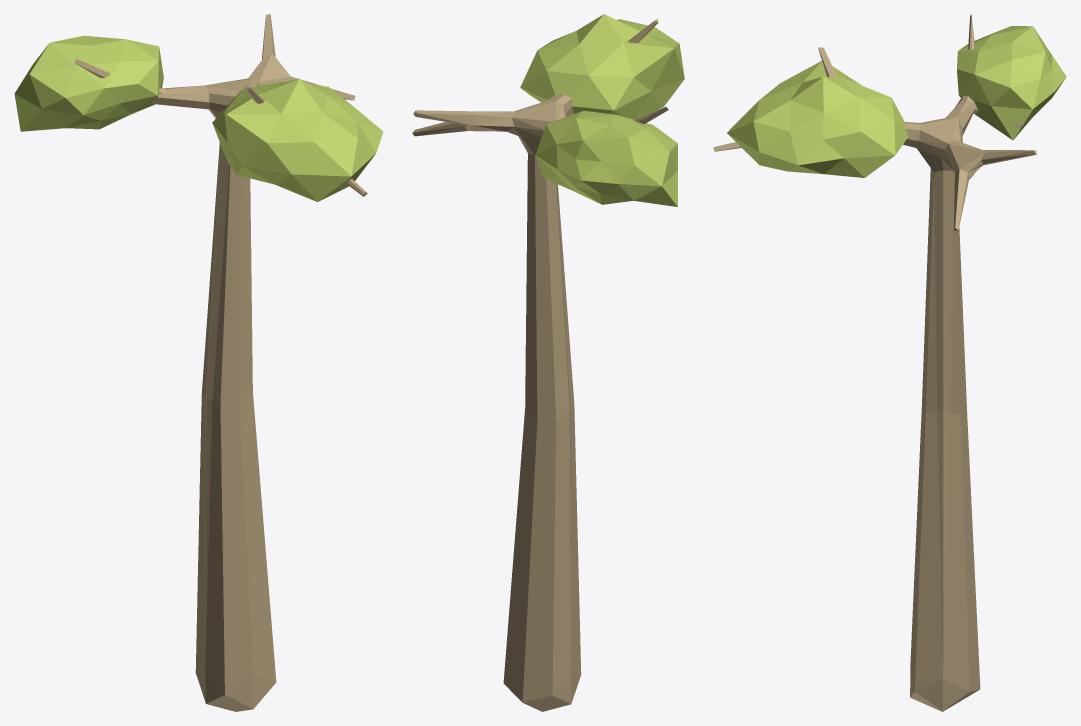
Rendered from DesertTree_1.fbx.
The picture shows the model from 3 angles, left to right: view 1: azimuth 30°, elevation 25°; view 2: azimuth 150°, elevation 25°; view 3: azimuth 270°, elevation 25°; orthographic projection. The views are drawn at different scales.
Visible parts, largest first — view 1: Deserttree_mesh; view 2: Deserttree_mesh; view 3: Deserttree_mesh.
Part boxes in pixels (bbox=[...]): Deserttree_mesh: bbox=[14, 14, 383, 711]; Deserttree_mesh: bbox=[412, 14, 684, 711]; Deserttree_mesh: bbox=[713, 14, 1066, 711].
Size of the model in its own units: 237 by 510 by 255.
